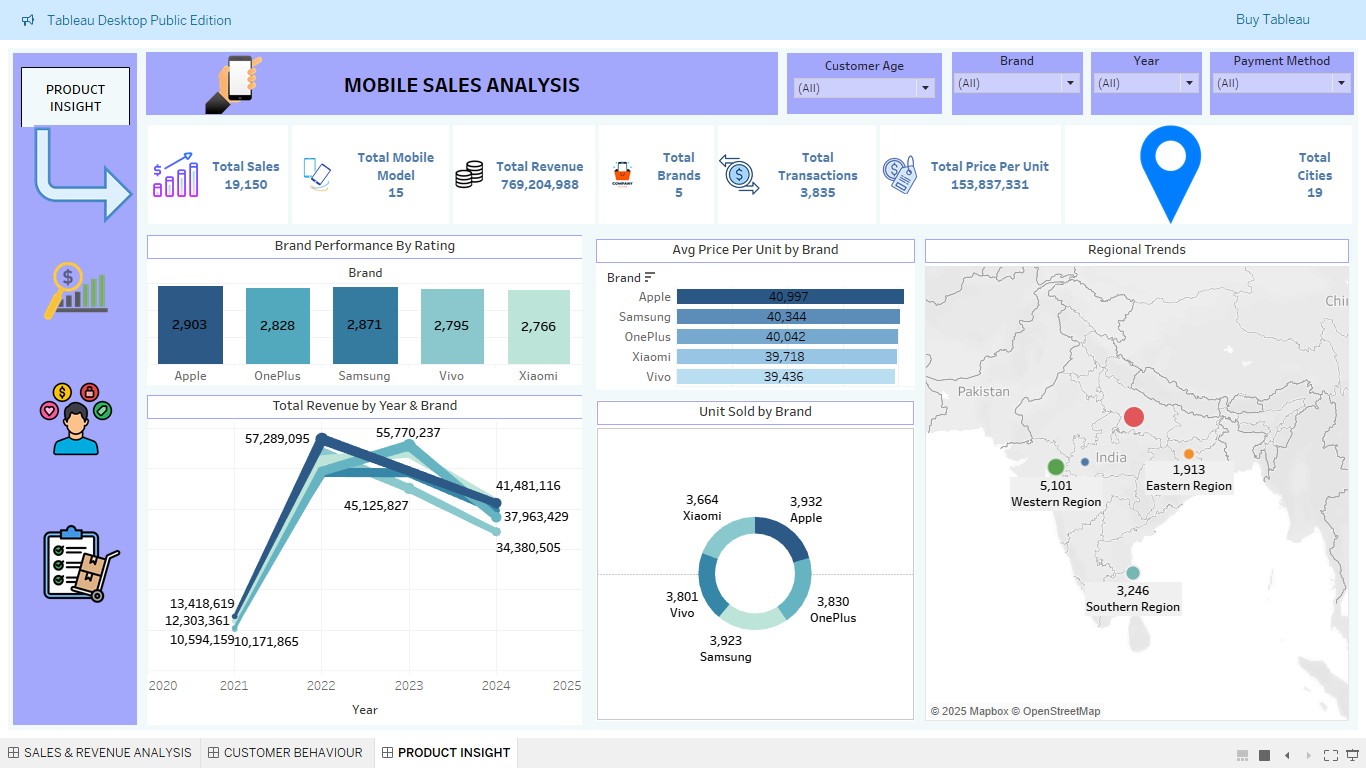

The page's visual inventory and layout, read from the dashboard file:
{"tool":"tableau","page":{"name":"PRODUCT INSIGHT","canvas":[1000,1000],"units":"permille","ordinal":1},"visuals":[{"type":"text","box":[104.7,14.5,467.3,101.1]},{"type":"filter","title":"Avg Price Per Unit by Brand","param":"[federated.1yo039a0kqphna190egkz1xvh2p4].[none:Brand:nk]","box":[693.2,14.5,102.1,101.1]},{"type":"filter","title":"Avg Price Per Unit by Brand","param":"[federated.1yo039a0kqphna190egkz1xvh2p4].[none:Year:ok]","box":[795.3,14.5,86.6,101.1]},{"type":"filter","title":"Avg Price Per Unit by Brand","param":"[federated.1yo039a0kqphna190egkz1xvh2p4].[none:Payment Method:nk]","box":[881.9,14.5,111.1,101.1]},{"type":"image","param":"C:/Users/DELL/Documents/ITVEDANT/FINAL PROJECTS/TABLEAU FINAL PROJECT DOCUMENTS/","box":[115.2,21.7,111.7,85.1]},{"type":"filter","title":"Avg Price Per Unit by Brand","param":"[federated.1yo039a0kqphna190egkz1xvh2p4].[Customer Age (group)]","box":[576.6,23.6,112.6,83.3]},{"type":"text","box":[15.6,38,79.7,87]},{"type":"image","param":"C:/Users/DELL/Documents/ITVEDANT/FINAL PROJECTS/kindpng_102523.png","box":[25.1,121.4,72.7,143.1]},{"type":"image","param":"C:/Users/DELL/Downloads/total-sales-1.png","box":[108.1,122.8,49.4,143.2]},{"type":"worksheet","title":"Total Sales","mark":"Automatic","box":[157.5,122.8,75.3,143.2]},{"type":"image","param":"C:/Users/DELL/Downloads/pngtree-smartphone-logo-design-blue-contact-png-image_55","box":[232.8,122.8,45,143.2]},{"type":"worksheet","title":"Total Mobile Models","mark":"Automatic","box":[277.8,122.8,94.4,143.2]},{"type":"image","param":"C:/Users/DELL/Downloads/total-revenue-64.png","box":[372.2,122.8,29.4,143.2]},{"type":"worksheet","title":"Total Revenue","mark":"Automatic","box":[401.6,122.8,97,143.2]},{"type":"image","param":"C:/Users/DELL/Downloads/flat-design-mobile-store-logo-template/7938816.jpg","box":[498.6,122.8,41.6,143.2]},{"type":"worksheet","title":"Total Brands","mark":"Automatic","box":[540.2,122.8,61.5,143.2]},{"type":"image","param":"C:/Users/DELL/Downloads/transaction.png","box":[601.6,122.8,38.1,143.2]},{"type":"worksheet","title":"Total Transaction","mark":"Automatic","box":[639.7,122.8,102.2,143.2]},{"type":"image","param":"C:/Users/DELL/Downloads/price.png","box":[741.9,122.8,35.5,143.2]},{"type":"worksheet","title":"Total Price Per Unit","mark":"Automatic","box":[777.4,122.8,117.9,143.2]},{"type":"image","param":"C:/Users/DELL/Downloads/location-icon-png-4240.png","box":[895.2,122.8,27.7,143.2]},{"type":"worksheet","title":"Total Cities","mark":"Automatic","box":[922.9,122.8,66.7,143.2]},{"type":"worksheet","title":"Brand Performance By Rating","mark":"Automatic","rows":["Customer Ratings"],"cols":["Brand"],"box":[104.7,273.2,325.5,289.9]},{"type":"worksheet","title":"Avg Price Per Unit by Brand","mark":"Automatic","rows":["Brand"],"cols":["Price Per Unit"],"box":[433.6,280.5,284.9,291.7]},{"type":"worksheet","title":"Regional Trends","mark":"Automatic","box":[718.5,280.5,271.1,697.8]},{"type":"dashboard-object","box":[21.7,300.7,67.5,119.6]},{"type":"dashboard-object","box":[20.8,483.7,70.1,115.9]},{"type":"worksheet","title":"Total Revenue by Year & Brand","mark":"Automatic","rows":["Calculation_919015832171958272"],"cols":["Year"],"box":[104.7,563.1,325.5,422.4]},{"type":"worksheet","title":"Unit Sold by Brand","mark":"Pie","rows":["Calculation_150589146214727680","Calculation_150589146214727680"],"box":[433.6,572.1,284.9,406.1]},{"type":"dashboard-object","box":[22.5,690.2,73.6,119.6]}]}

Visuals, with their boxes on the dashboard's canvas, which has no fixed pixel size, in thousandths of its width and height (x1, y1, x2, y2). These are canvas units, not pixel positions in the 1366x768 screenshot, which may show the page scaled, cropped or inside an application window:
text: Rect(105, 14, 572, 116)
"Avg Price Per Unit by Brand" filter: Rect(693, 14, 795, 116)
"Avg Price Per Unit by Brand" filter: Rect(795, 14, 882, 116)
"Avg Price Per Unit by Brand" filter: Rect(882, 14, 993, 116)
image: Rect(115, 22, 227, 107)
"Avg Price Per Unit by Brand" filter: Rect(577, 24, 689, 107)
text: Rect(16, 38, 95, 125)
image: Rect(25, 121, 98, 264)
image: Rect(108, 123, 158, 266)
"Total Sales" worksheet: Rect(158, 123, 233, 266)
image: Rect(233, 123, 278, 266)
"Total Mobile Models" worksheet: Rect(278, 123, 372, 266)
image: Rect(372, 123, 402, 266)
"Total Revenue" worksheet: Rect(402, 123, 499, 266)
image: Rect(499, 123, 540, 266)
"Total Brands" worksheet: Rect(540, 123, 602, 266)
image: Rect(602, 123, 640, 266)
"Total Transaction" worksheet: Rect(640, 123, 742, 266)
image: Rect(742, 123, 777, 266)
"Total Price Per Unit" worksheet: Rect(777, 123, 895, 266)
image: Rect(895, 123, 923, 266)
"Total Cities" worksheet: Rect(923, 123, 990, 266)
"Brand Performance By Rating" worksheet: Rect(105, 273, 430, 563)
"Avg Price Per Unit by Brand" worksheet: Rect(434, 280, 718, 572)
"Regional Trends" worksheet: Rect(718, 280, 990, 978)
dashboard-object: Rect(22, 301, 89, 420)
dashboard-object: Rect(21, 484, 91, 600)
"Total Revenue by Year & Brand" worksheet: Rect(105, 563, 430, 986)
"Unit Sold by Brand" worksheet (Pie marks): Rect(434, 572, 718, 978)
dashboard-object: Rect(22, 690, 96, 810)
